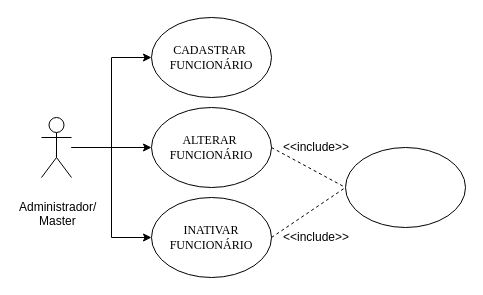
This 483x295 diagram has some shape labels left out. The shapes that lost their labels are listed below. From the top down, each one's centre as x and y in pixels, then its label:
point (56, 147): Actor
point (405, 187): CONSULTAR FUNCIONÁRIO
